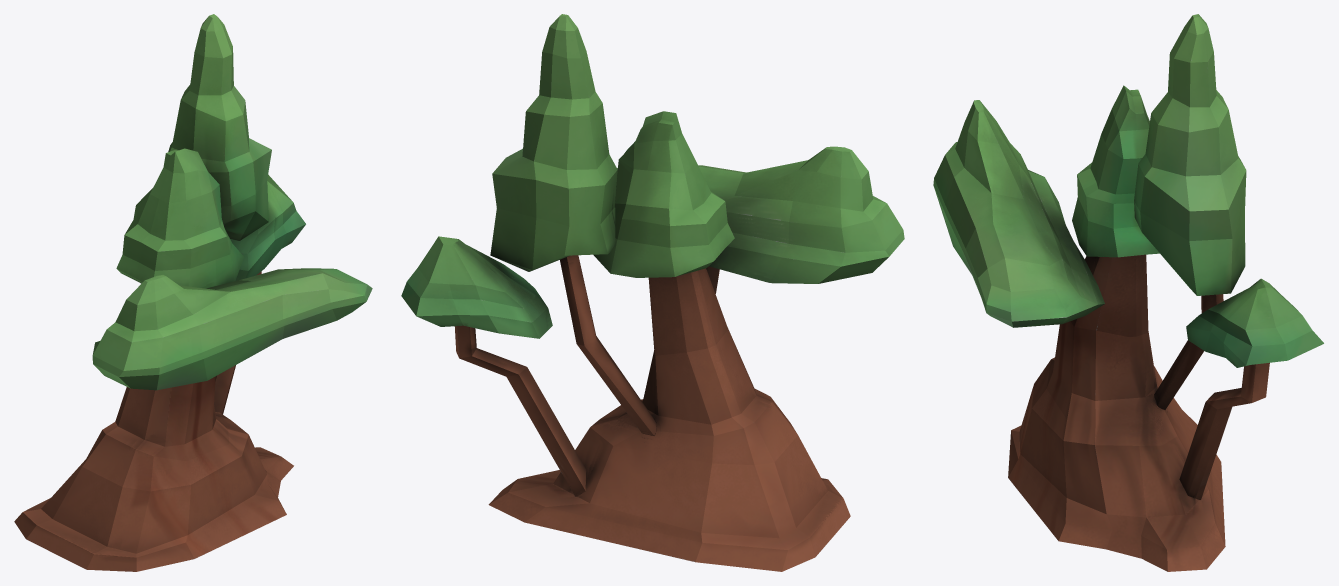
The model's file is Tree_5.fbx.
3 views of the same model, side by side, from view 1: azimuth 30°, elevation 25°; view 2: azimuth 150°, elevation 25°; view 3: azimuth 270°, elevation 25° (orthographic). The views are drawn at different scales.
Visible parts, largest first — view 1: Tree_5; view 2: Tree_5; view 3: Tree_5.
Part boxes in pixels (x1,y1,x2,y2): Tree_5: (14,14,372,571); Tree_5: (401,14,904,571); Tree_5: (933,14,1323,571).
Bounding box in the file's own units: 19.57 × 26.56 × 18.11.
